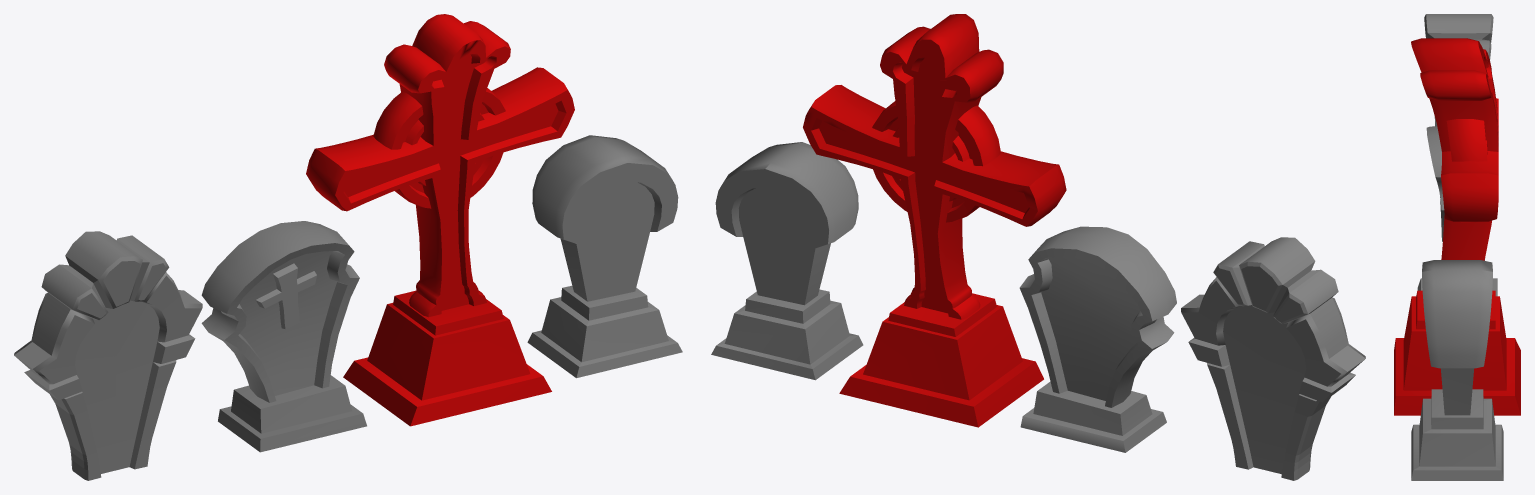
The model's file is Gravestones02.fbx.
3 renders of one model, left to right at view 1: azimuth 30°, elevation 25°; view 2: azimuth 150°, elevation 25°; view 3: azimuth 270°, elevation 25°, orthographic. The views are drawn at different scales.
Parts seen in each view (by area): view 1: GSC_cross_LOW, Gravestone3_LOW, GS1_headstone_LOW, GSC_podest_LOW, GS2_headstone_LOW, GS2_podest_LOW, GS1_podest_LOW, GSC_ring_LOW, GS1_rip_LOW; view 2: GSC_cross_LOW, Gravestone3_LOW, GS1_headstone_LOW, GSC_podest_LOW, GS2_headstone_LOW, GS2_podest_LOW, GS1_podest_LOW, GSC_ring_LOW; view 3: GSC_cross_LOW, GS2_headstone_LOW, GSC_podest_LOW, GS2_podest_LOW, Gravestone3_LOW, GSC_ring_LOW, GS1_headstone_LOW.
Boxes of the visible parts, x1,y1,x2,y2 form: GSC_cross_LOW: (306,14,574,317); Gravestone3_LOW: (14,231,202,480); GS1_headstone_LOW: (201,221,359,402); GSC_podest_LOW: (343,290,551,426); GS2_headstone_LOW: (532,135,678,301); GS2_podest_LOW: (527,285,682,378); GS1_podest_LOW: (218,375,366,452); GSC_ring_LOW: (373,88,505,208); GS1_rip_LOW: (255,263,316,329); GSC_cross_LOW: (803,14,1066,319); Gravestone3_LOW: (1181,237,1365,480); GS1_headstone_LOW: (1019,226,1176,407); GSC_podest_LOW: (839,293,1043,427); GS2_headstone_LOW: (715,142,858,305); GS2_podest_LOW: (711,289,863,380); GS1_podest_LOW: (1020,381,1166,452); GSC_ring_LOW: (872,101,1000,222); GSC_cross_LOW: (1411,38,1498,260); GS2_headstone_LOW: (1422,260,1492,415); GSC_podest_LOW: (1394,290,1520,415); GS2_podest_LOW: (1411,389,1503,480); Gravestone3_LOW: (1424,14,1493,241); GSC_ring_LOW: (1446,119,1487,222); GS1_headstone_LOW: (1426,126,1484,260).
Size of the model in its own units: 150 by 81.7 by 27.22.
